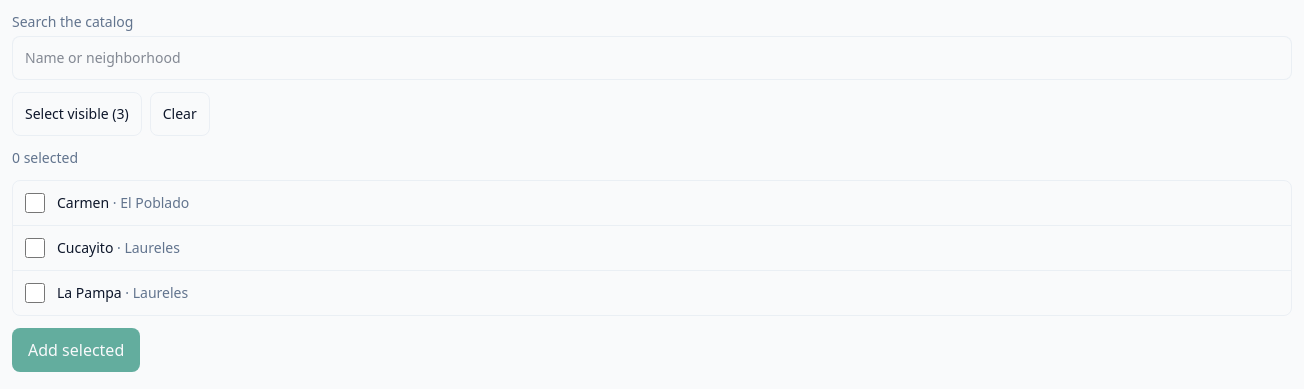
Scenario: RestaurantPicker › filters by name and by neighborhood
The width and height of the screenshot is (1304, 389).
Type "car" into the search field with test id "contest-picker-search".
click(652, 58); type("car")  # box x1=12 y1=36 x2=1292 y2=80
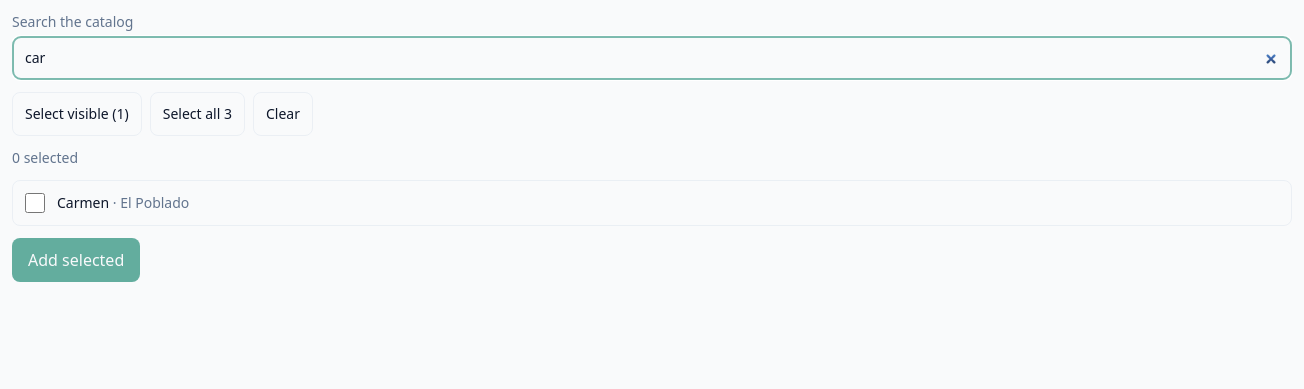
expect the number of checkboxes with test id "contest-picker-option" is 1: met, box x1=25 y1=193 x2=45 y2=213
Replace the text in the search field with test id "contest-picker-search" with "laureles" at (652, 58), box x1=12 y1=36 x2=1292 y2=80
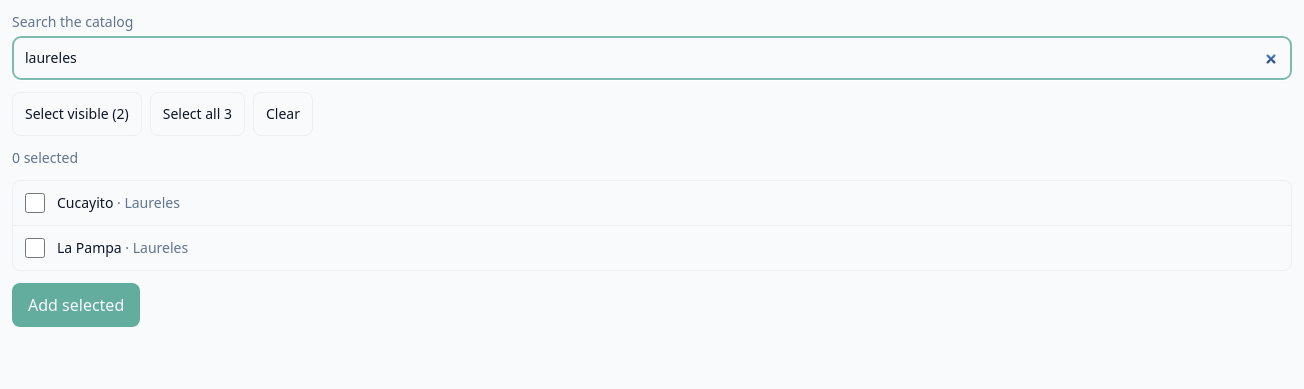
expect the number of checkboxes with test id "contest-picker-option" is 2: met, box x1=25 y1=193 x2=45 y2=213; x1=25 y1=238 x2=45 y2=258
